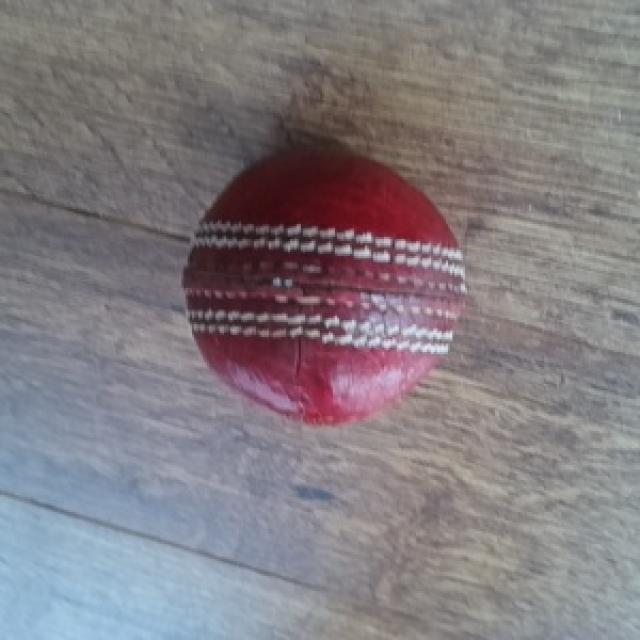ball: (182, 139, 469, 425)
